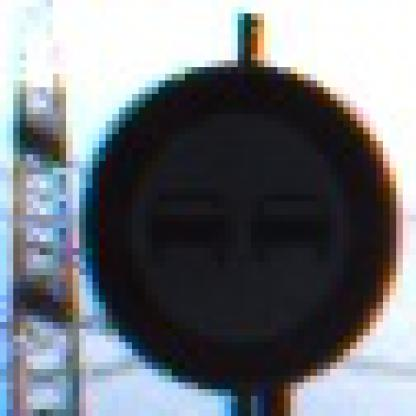No Overtaking: (34, 42, 384, 384)
